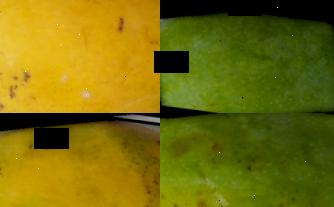Ripe: (0, 0, 160, 113), (0, 113, 160, 207)
Unripe: (160, 0, 334, 113), (160, 113, 334, 207)
